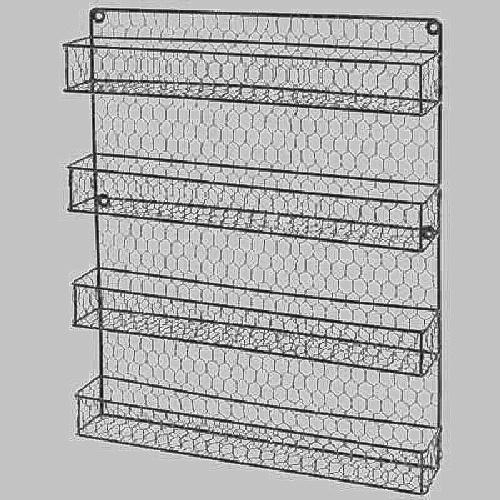cabinet: (61, 4, 459, 489)
